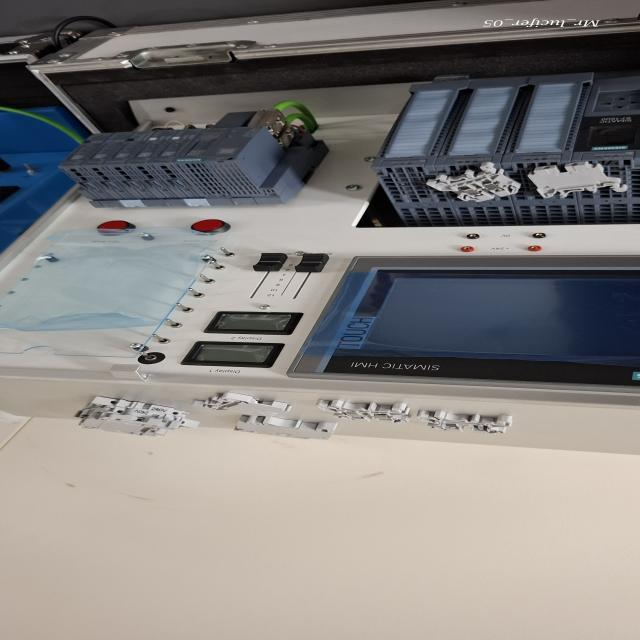Inverted: (524, 159, 636, 201), (178, 386, 292, 420)
Pass: (303, 393, 418, 436), (413, 158, 520, 202)
Reject: (412, 403, 544, 446)
